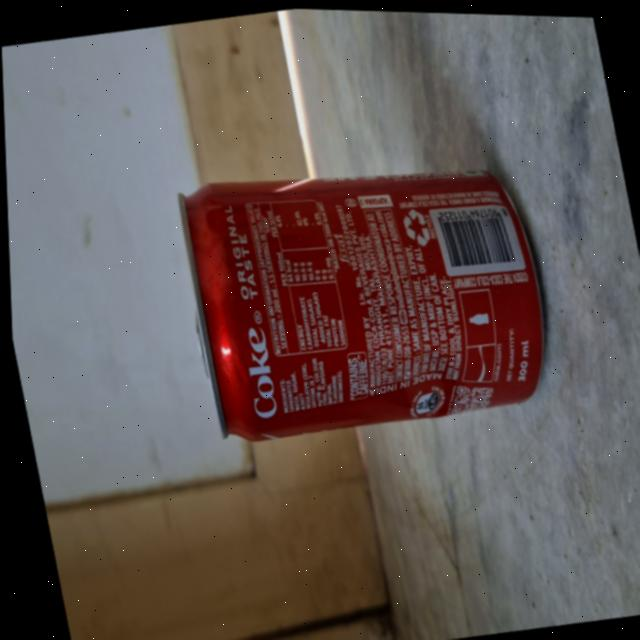Coca Cola: (169, 145, 546, 454)
